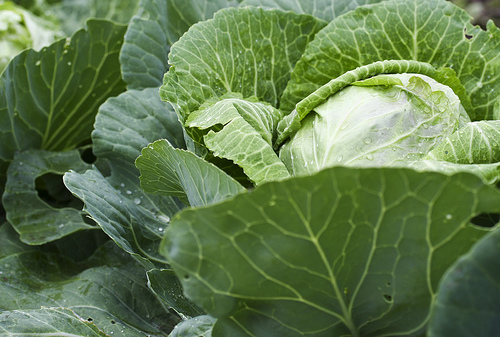cabbage: (186, 0, 499, 184)
